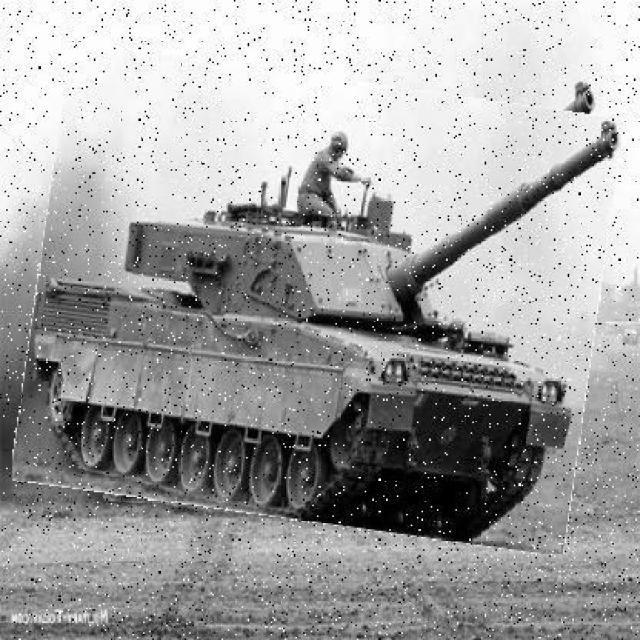Person: (284, 127, 360, 229)
Tank: (26, 61, 612, 539)
